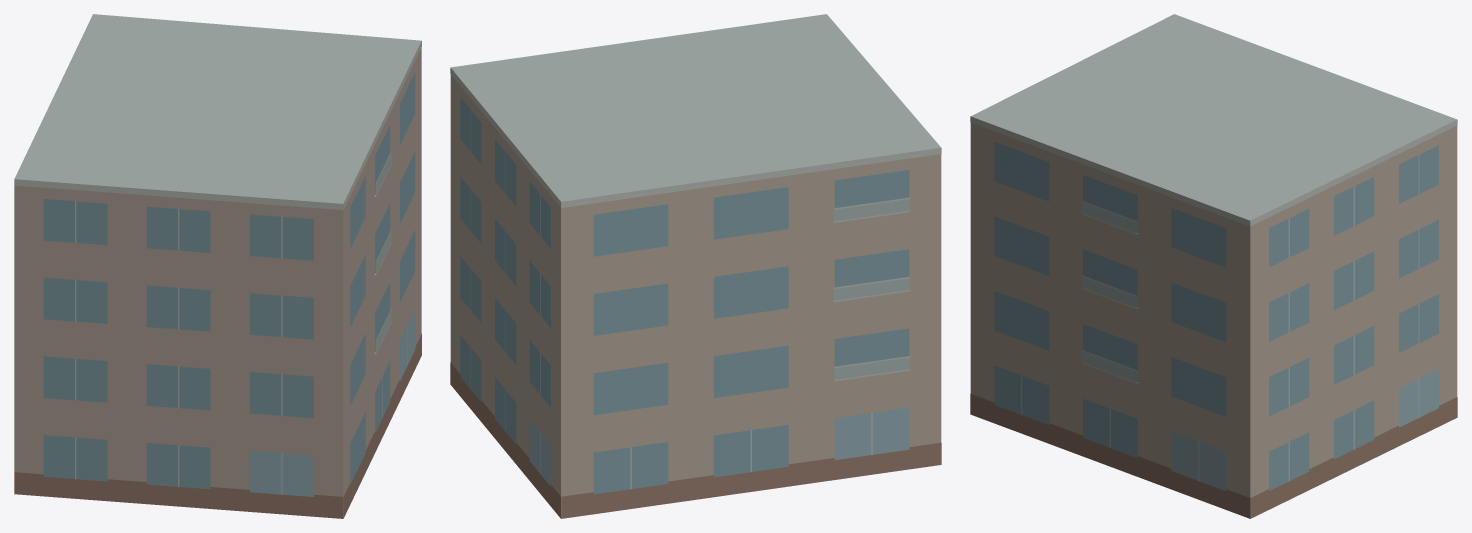
The model's file is survey-upis-32761269.glb.
The picture shows the model from 3 angles, left to right: view 1: azimuth 30°, elevation 25°; view 2: azimuth 150°, elevation 25°; view 3: azimuth 270°, elevation 25°; orthographic projection. The views are drawn at different scales.
Visible parts, largest first — view 1: survey-upis-32761269.tmp; view 2: survey-upis-32761269.tmp; view 3: survey-upis-32761269.tmp.
Boxes of the visible parts, x1=… form: survey-upis-32761269.tmp: x1=14, y1=14, x2=421, y2=518; survey-upis-32761269.tmp: x1=450, y1=14, x2=941, y2=518; survey-upis-32761269.tmp: x1=970, y1=14, x2=1457, y2=518.
Size of the model in its own units: 18.37 by 12.35 by 18.29.
